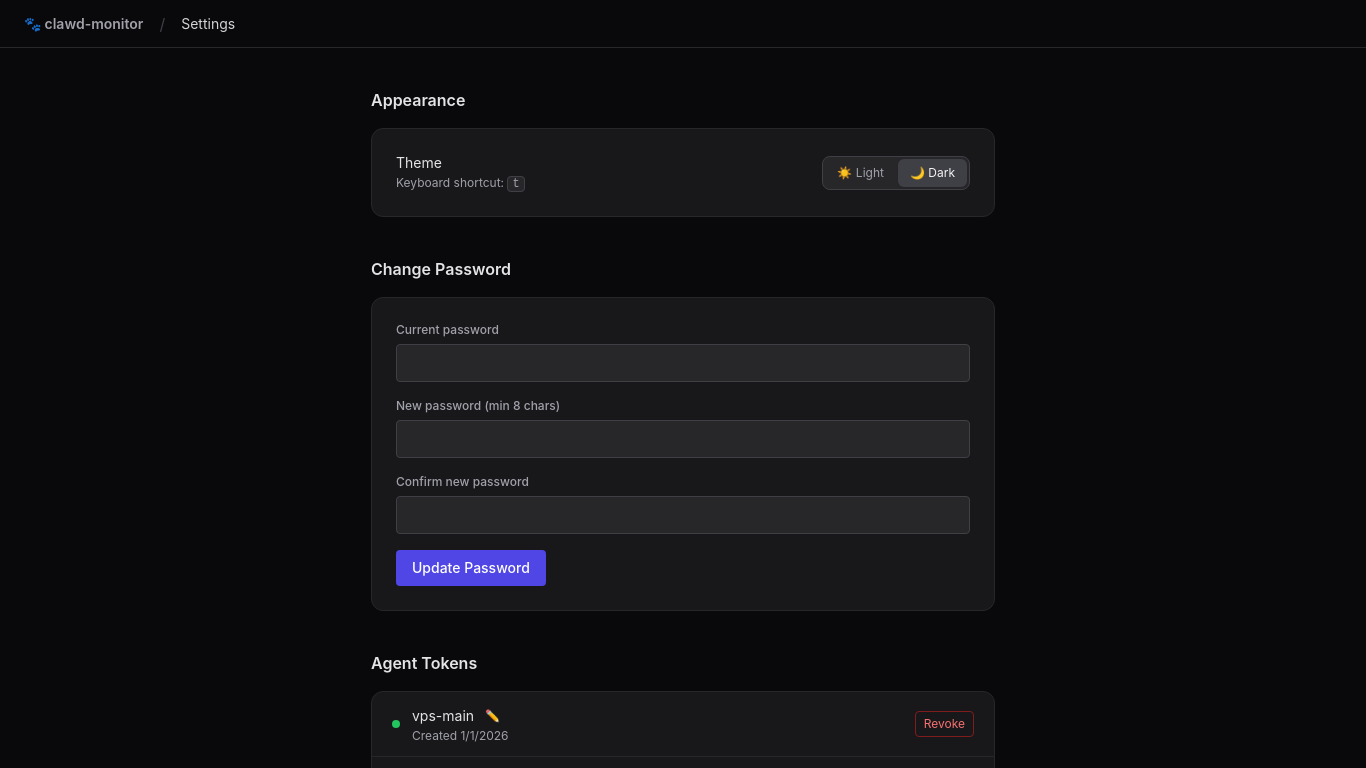
Test: revoke token › keeps its error message and stays on the page on 500
Step 1. Click the button "Revoke" → (944, 724), box [915,711,974,737]
(page scrolled)
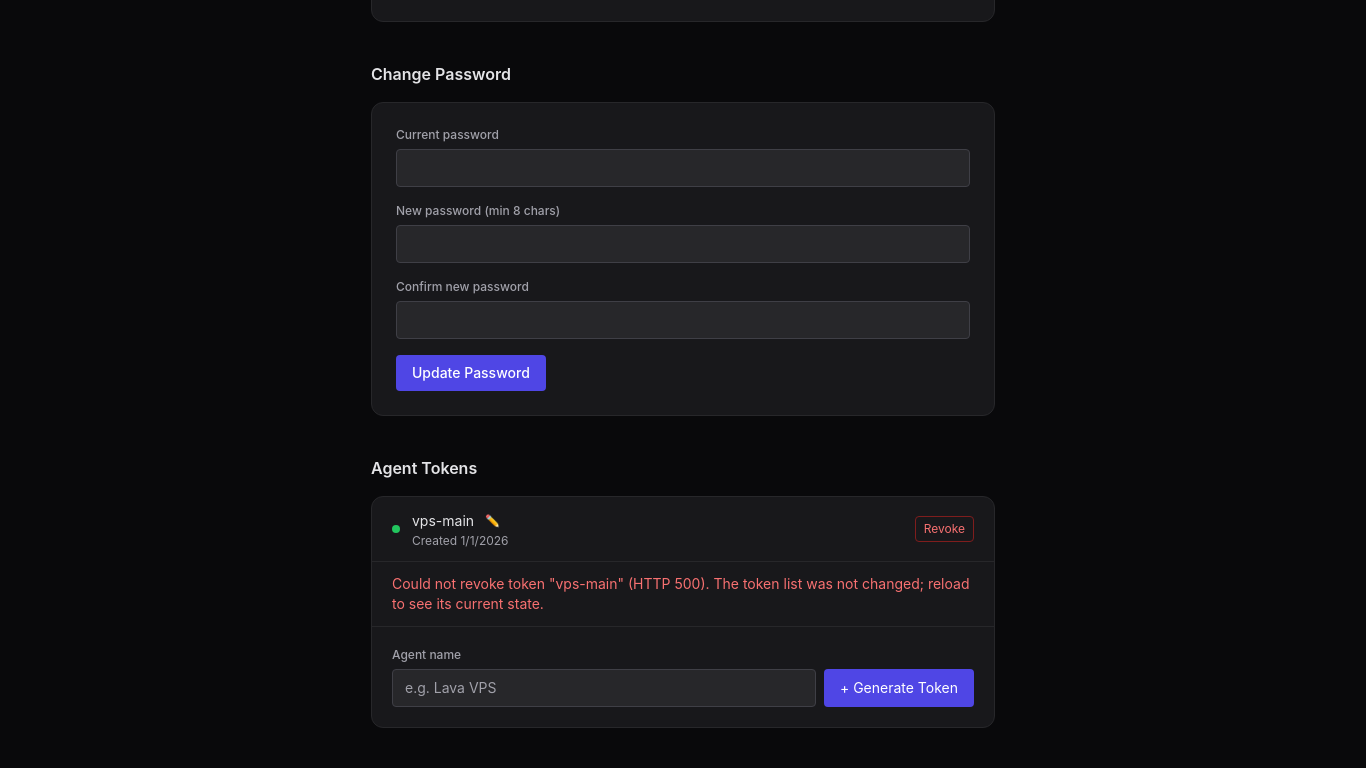
Expected: the message shows "HTTP 500", [392,575,970,612]
